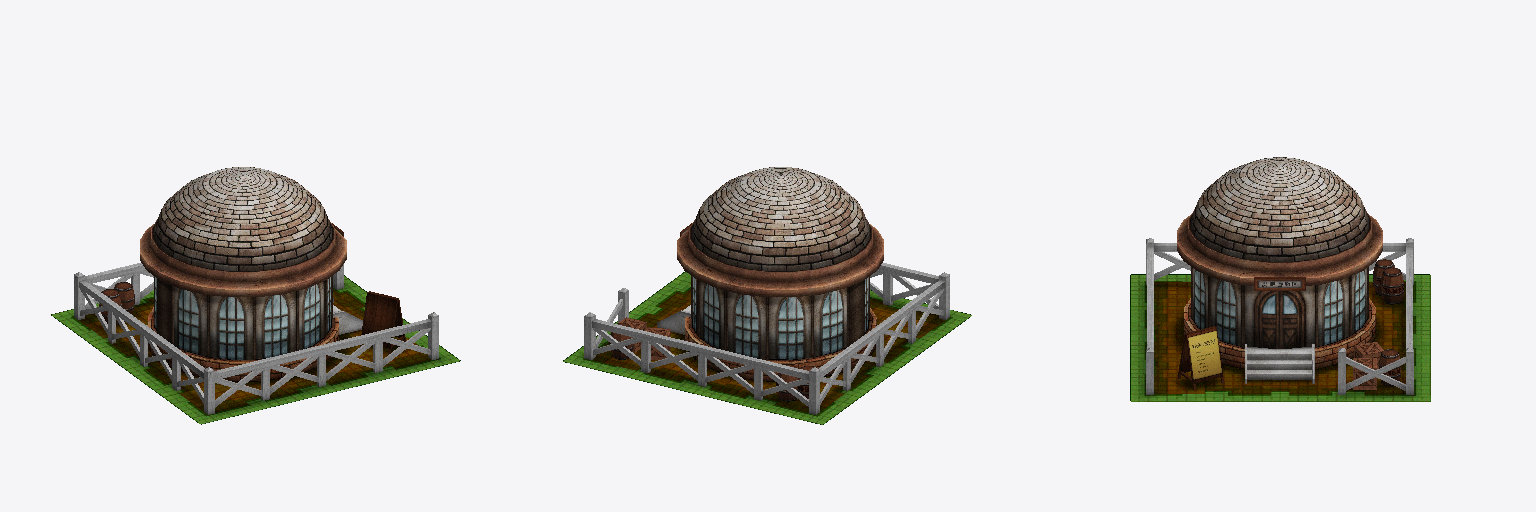
3 views of the same model, side by side, from view 1: azimuth 30°, elevation 25°; view 2: azimuth 150°, elevation 25°; view 3: azimuth 270°, elevation 25° (orthographic).
Parts seen in each view (by area): view 1: farm_build_05, farm_build_05_tile; view 2: farm_build_05, farm_build_05_tile; view 3: farm_build_05, farm_build_05_tile.
Part boxes in pixels (x1,y1,x2,y2): farm_build_05: (74,167,438,414); farm_build_05_tile: (51,275,460,424); farm_build_05: (584,167,949,414); farm_build_05_tile: (563,271,971,424); farm_build_05: (1146,157,1413,394); farm_build_05_tile: (1130,274,1430,401).
Size of the model in its own units: 8.18 by 4.85 by 8.16.
2 materials, 2 textured.